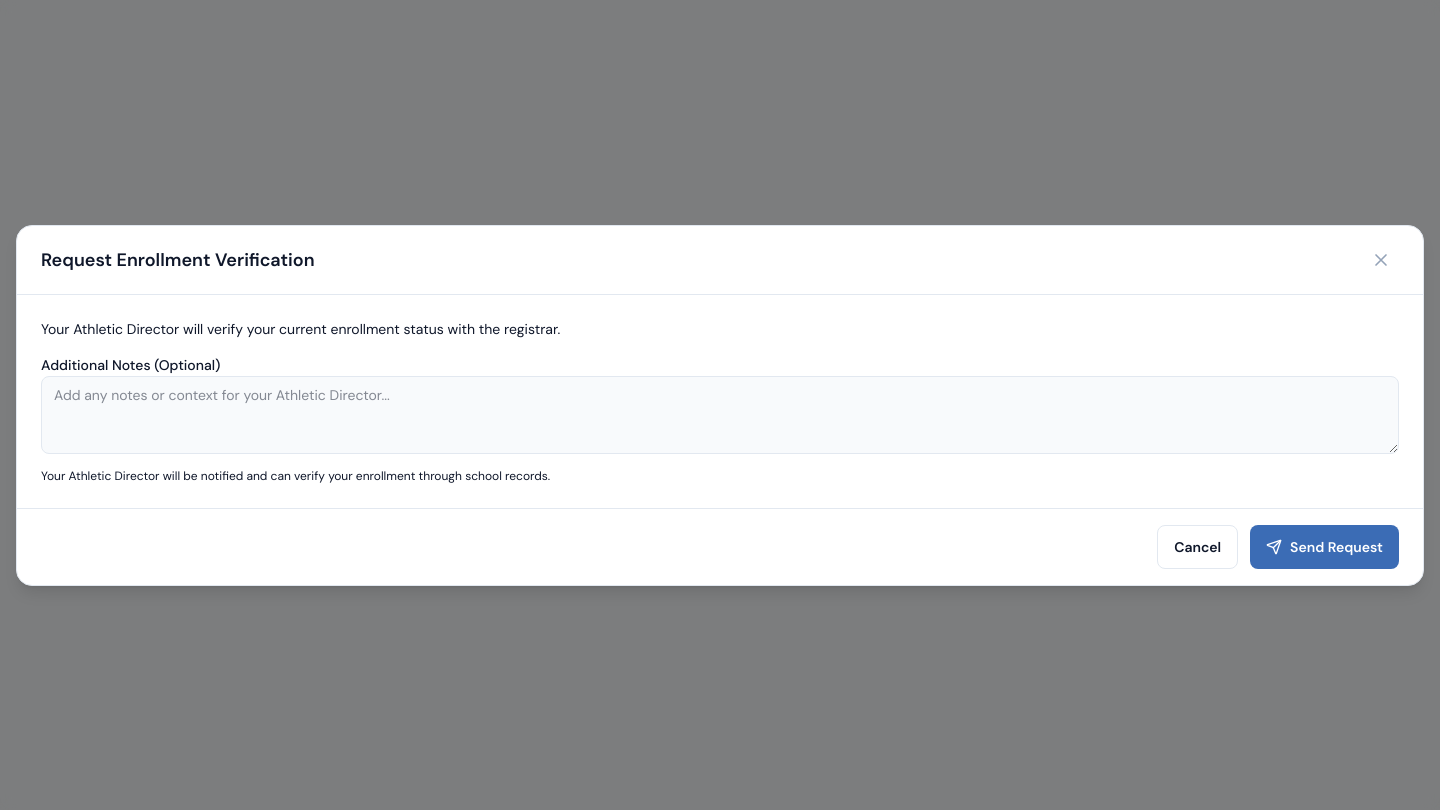
Test: VerificationRequestModal › shows error message on failed submission
This screenshot has width=1440, height=810.
Click the button "Send Request" at (1325, 546), box top-left (1250, 524), bottom-right (1399, 568)
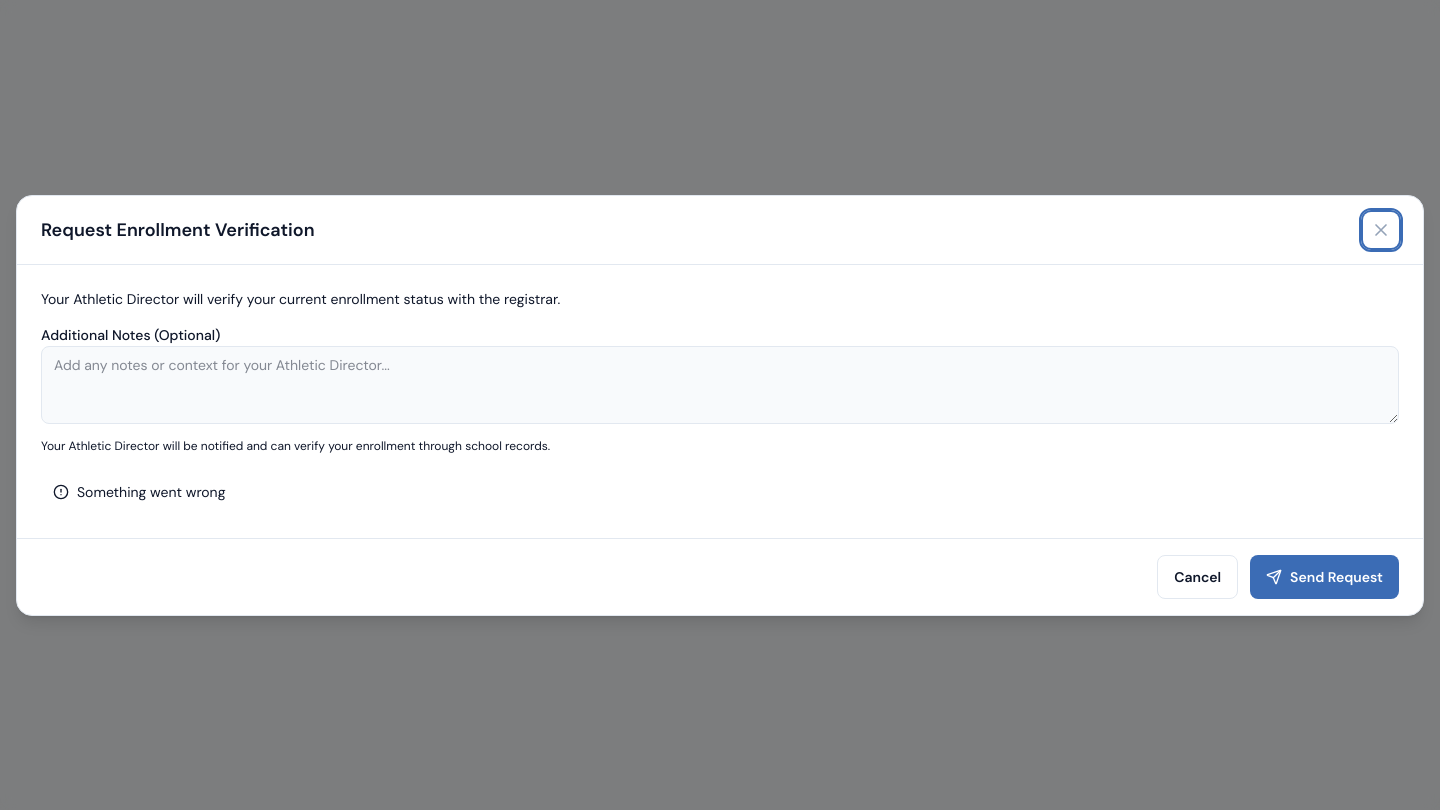
Expected: the text "Something went wrong" is shown, top-left (77, 482), bottom-right (226, 502)
